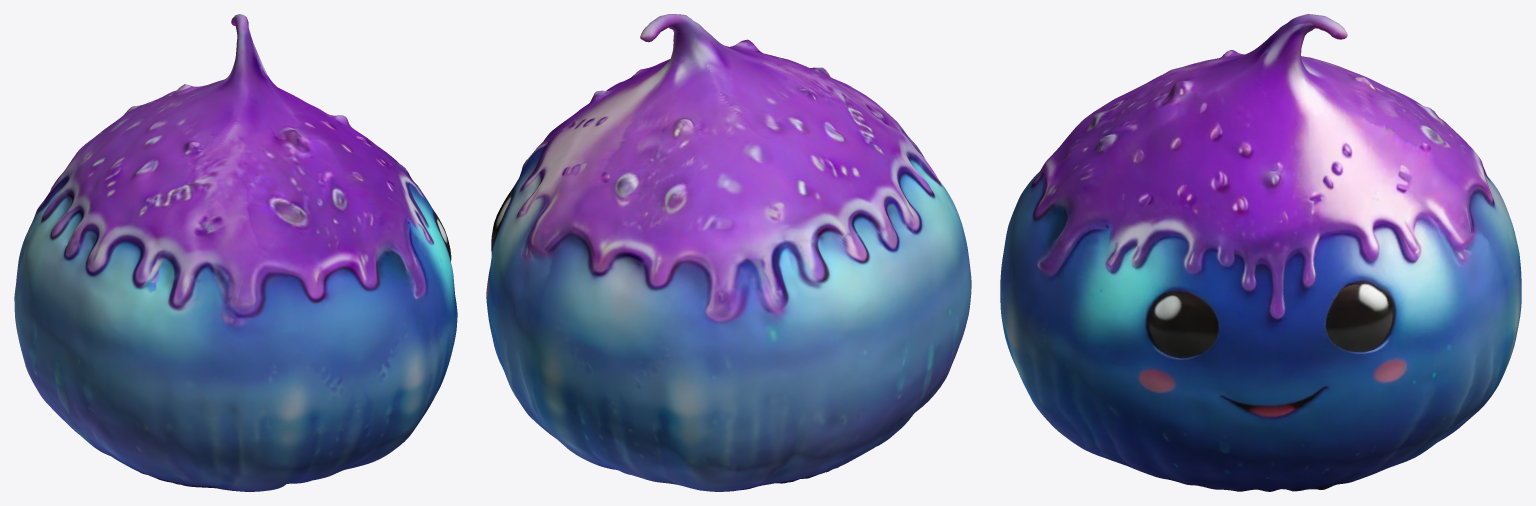
Rendered from slime.fbx.
3 renders of one model, left to right at view 1: azimuth 30°, elevation 25°; view 2: azimuth 150°, elevation 25°; view 3: azimuth 270°, elevation 25°, orthographic. The views are drawn at different scales.
Visible parts, largest first — view 1: geometry_0; view 2: geometry_0; view 3: geometry_0.
Boxes of the visible parts, x1,y1,x2,y2 form: geometry_0: [14, 14, 457, 491]; geometry_0: [486, 14, 971, 491]; geometry_0: [1000, 14, 1521, 491].
Size of the model in its own units: 64.35 by 66.81 by 71.72.
1 material, 1 textured.
